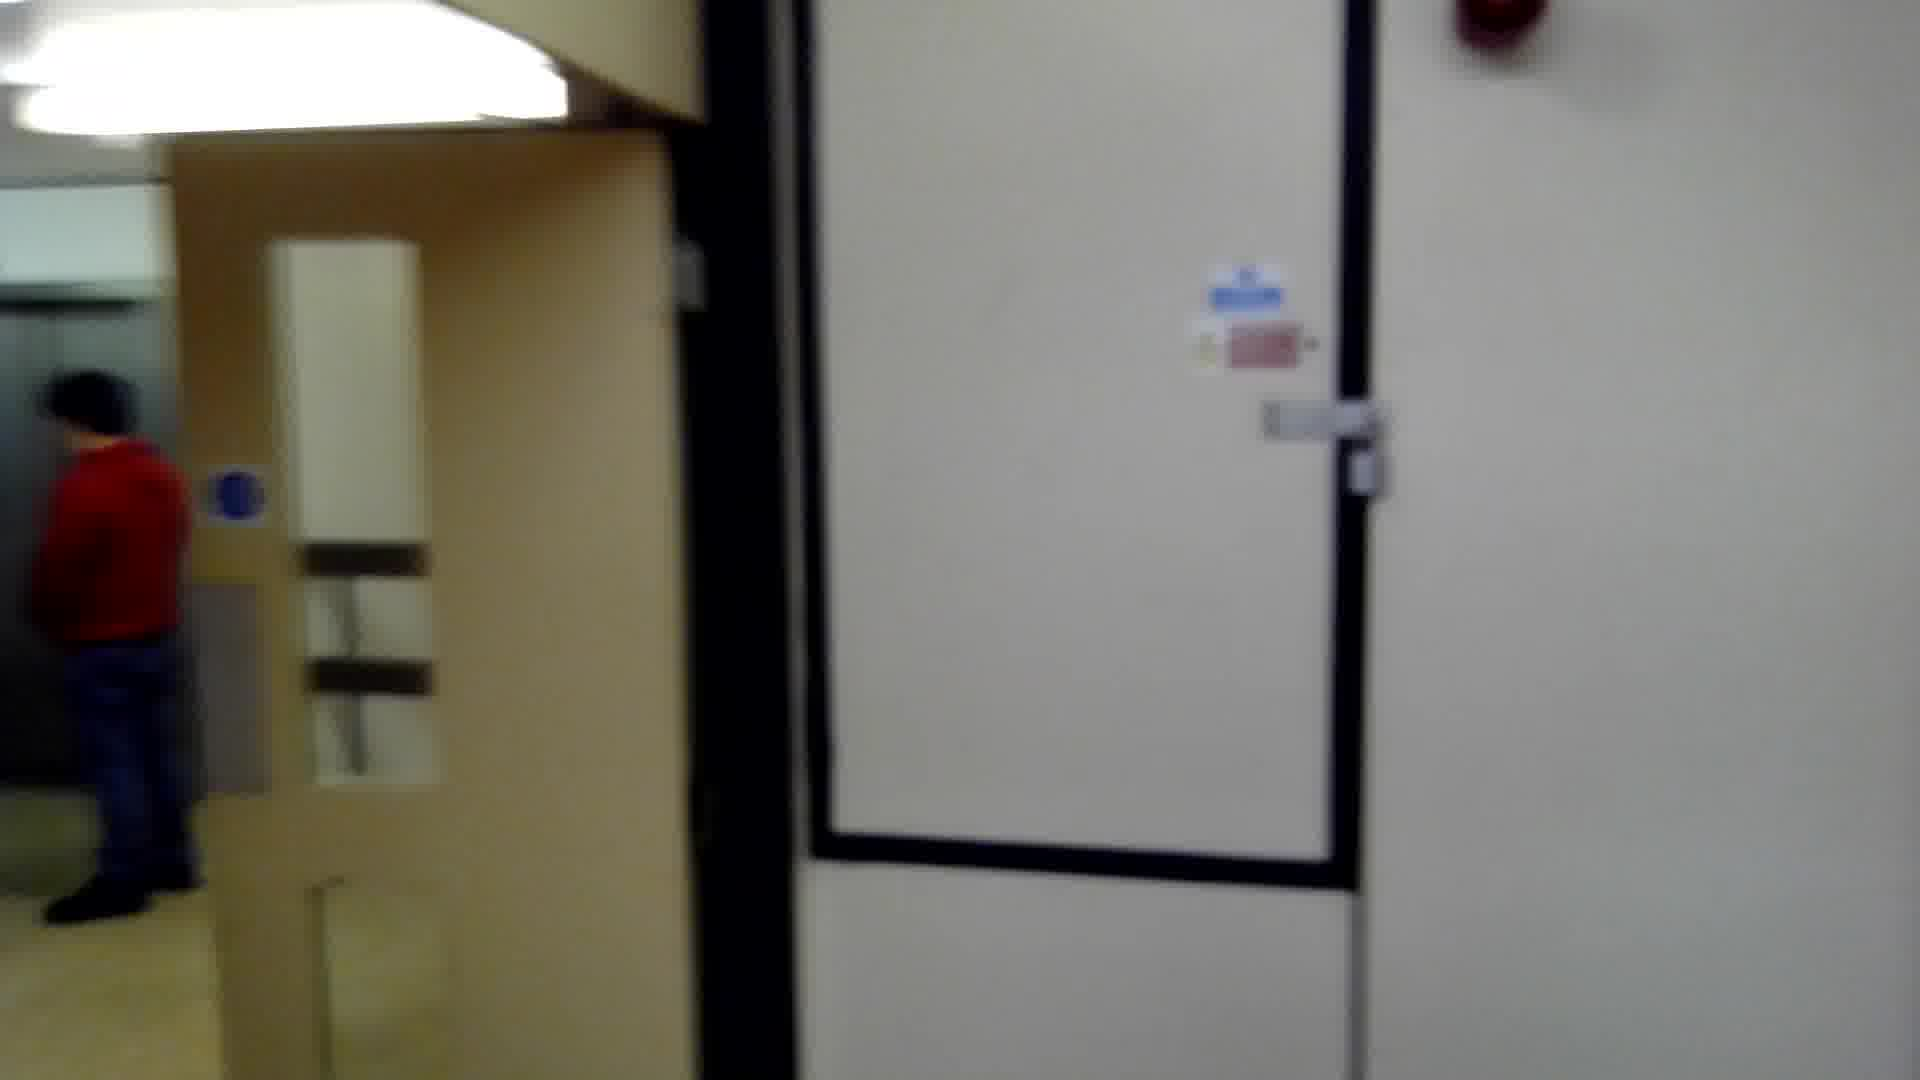Door: (148, 118, 709, 1080)
Person: (28, 359, 212, 937)
